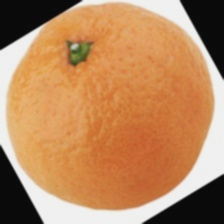orange: (43, 31, 219, 213)
